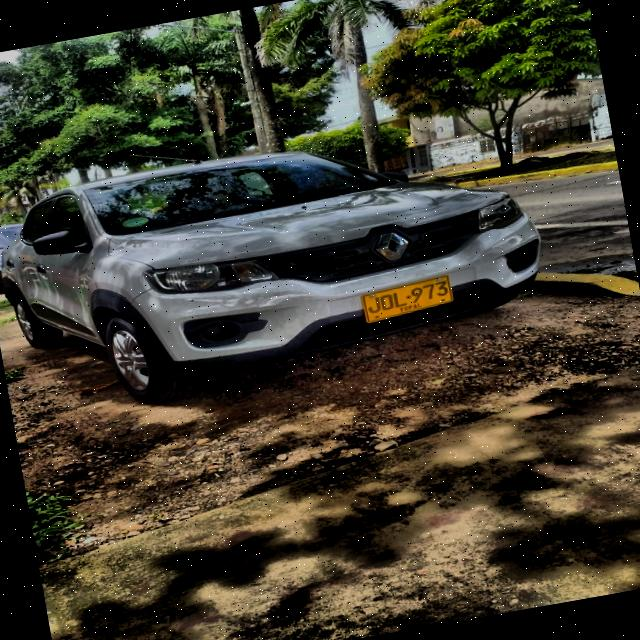3: (434, 280, 450, 297)
7: (422, 283, 436, 300)
9: (410, 286, 424, 304)
J: (366, 296, 381, 314)
L: (392, 290, 408, 308)
O: (380, 292, 394, 310)
